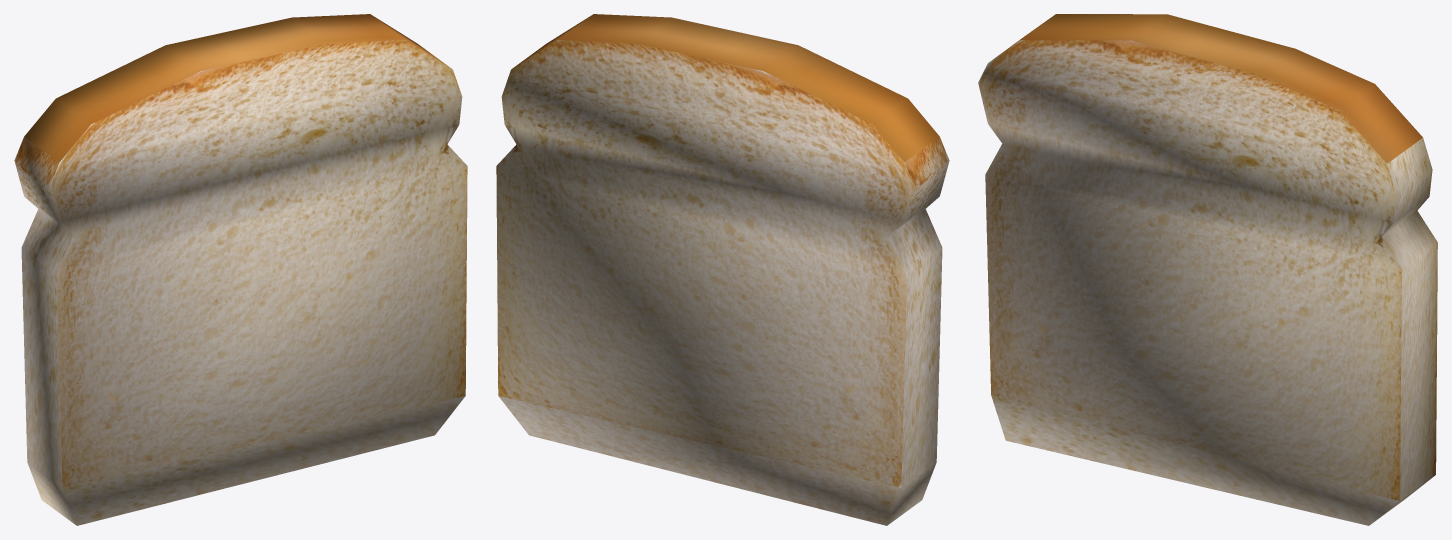
The model's file is bread.fbx.
The picture shows the model from 3 angles, left to right: view 1: azimuth 30°, elevation 25°; view 2: azimuth 150°, elevation 25°; view 3: azimuth 330°, elevation 25°; orthographic projection.
Visible parts, largest first — view 1: bread; view 2: bread; view 3: bread.
Boxes of the visible parts, x1=… form: bread: x1=14, y1=14, x2=467, y2=525; bread: x1=496, y1=14, x2=949, y2=525; bread: x1=978, y1=14, x2=1437, y2=525.
Bounding box in the file's own units: 931 × 904 × 137.
